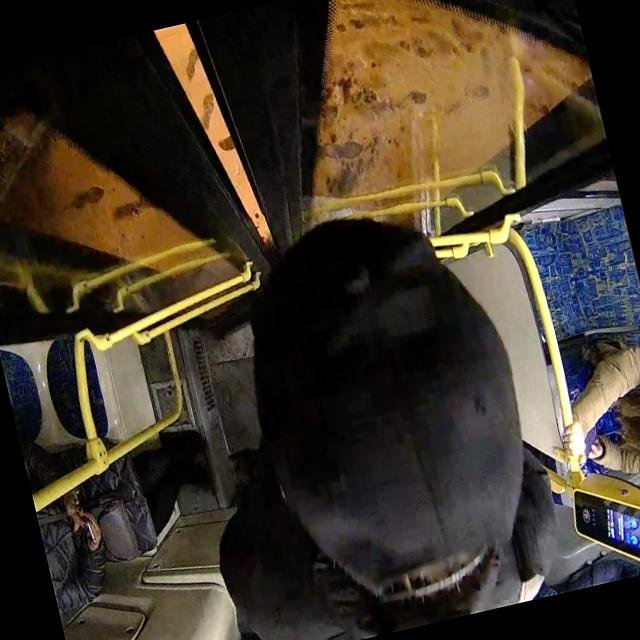bus-door: (190, 0, 613, 257), (0, 31, 274, 345)
